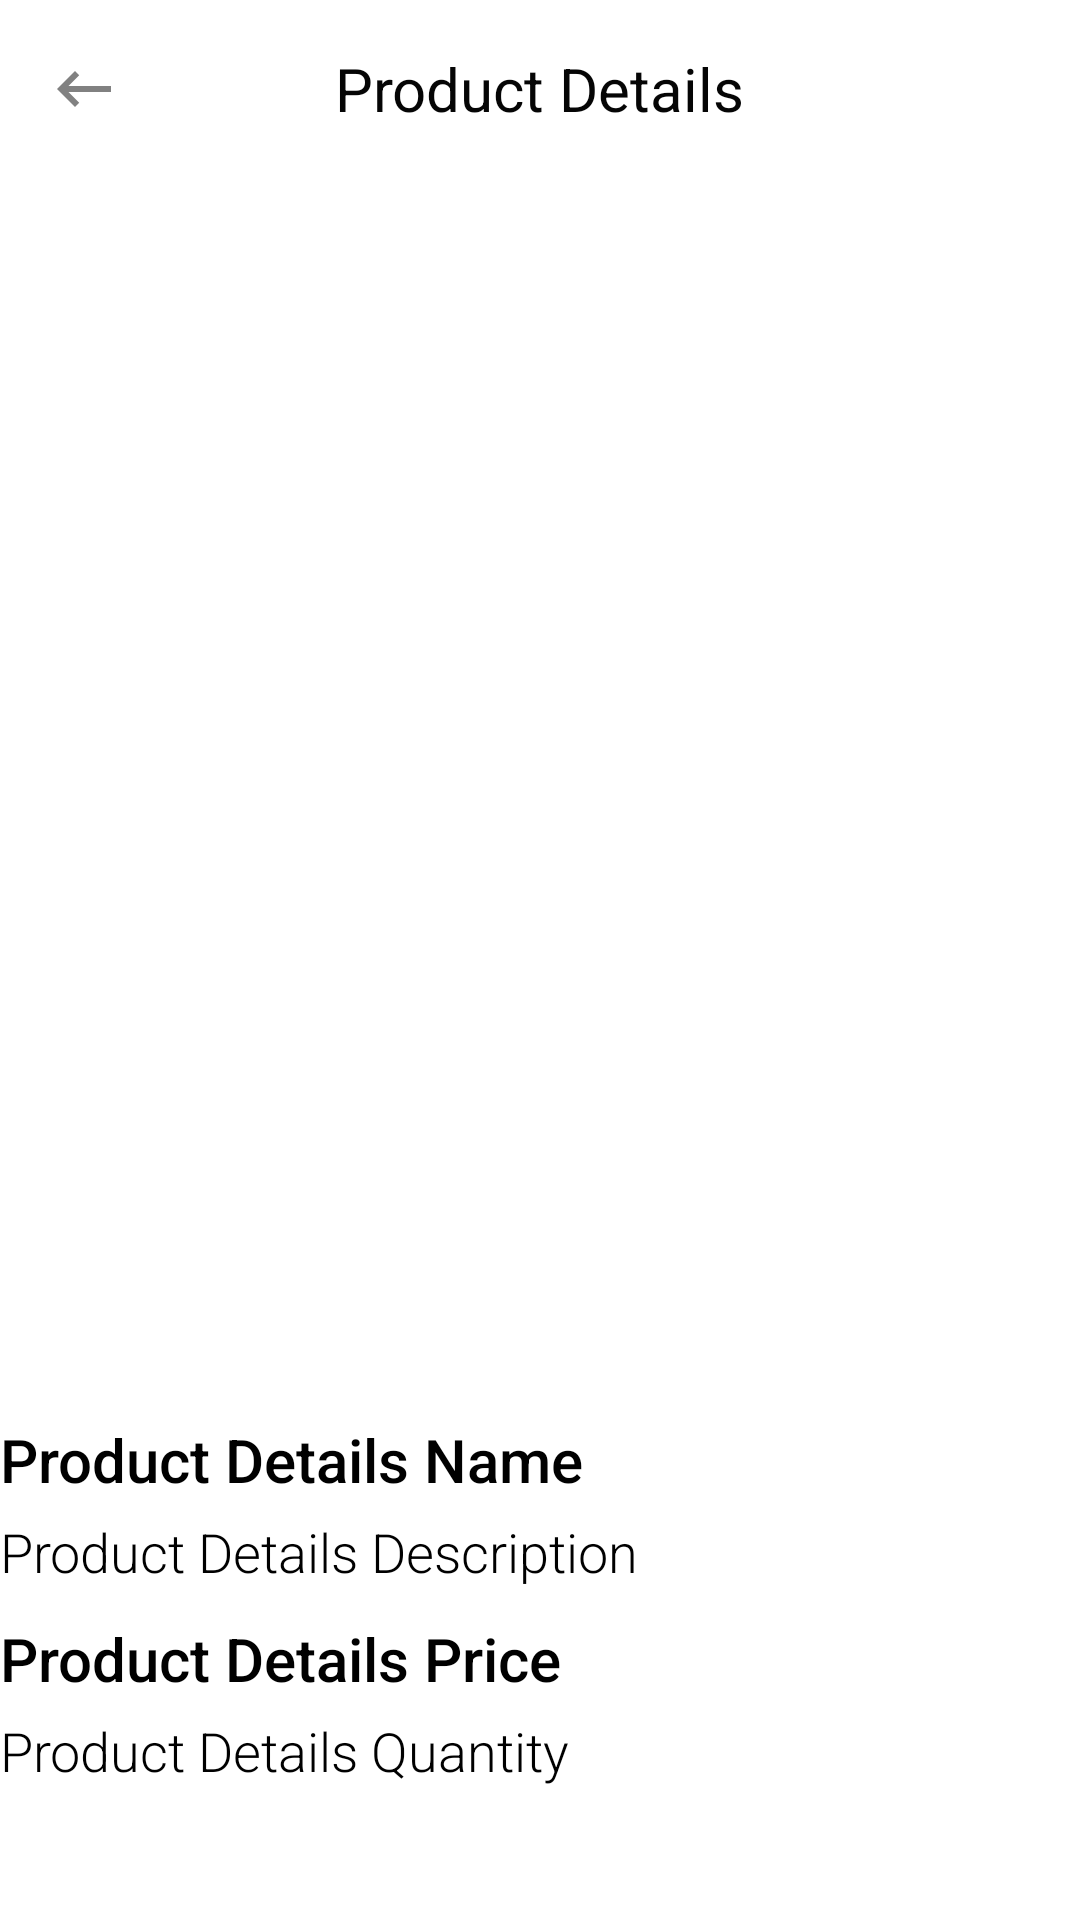

Icon click points for this 1080×1920 phone screenshot, format (x,y):
back to previous activity: (84,89)
